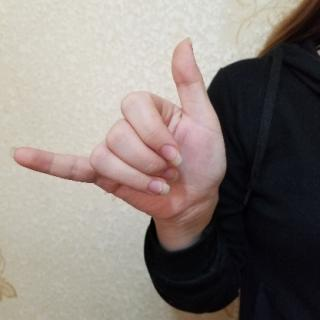YA: (11, 35, 231, 227)
